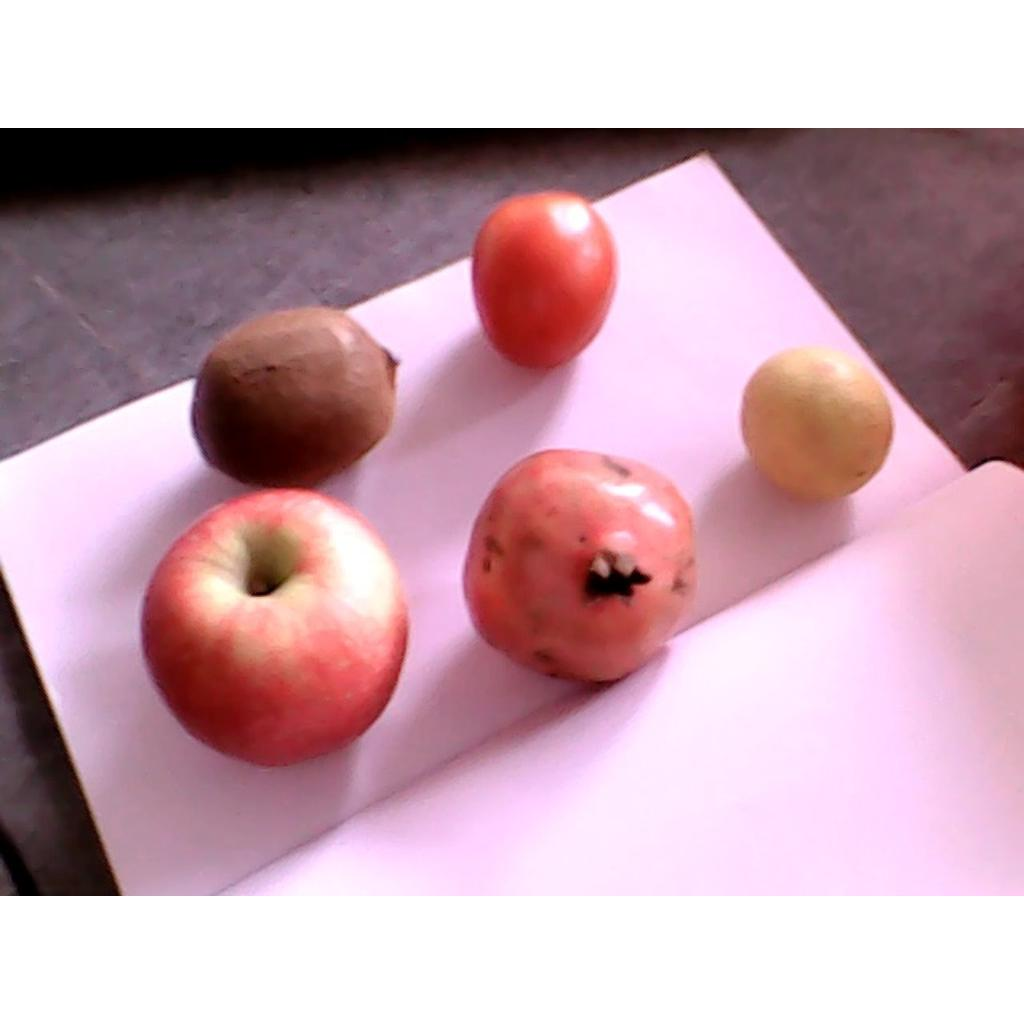apple: (140, 489, 409, 763)
kiwi: (191, 306, 403, 486)
lemon: (740, 346, 894, 499)
pomegranate: (462, 449, 700, 684)
tomato: (470, 188, 617, 367)
